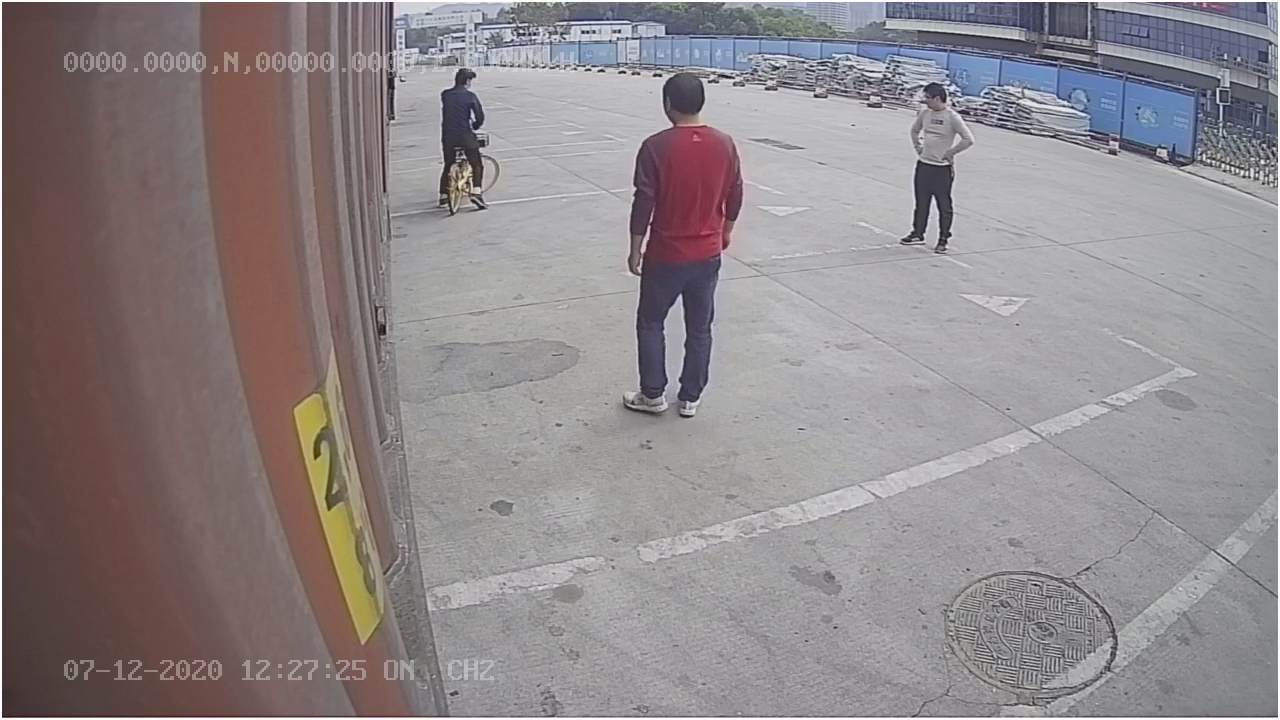person: (618, 69, 751, 421)
